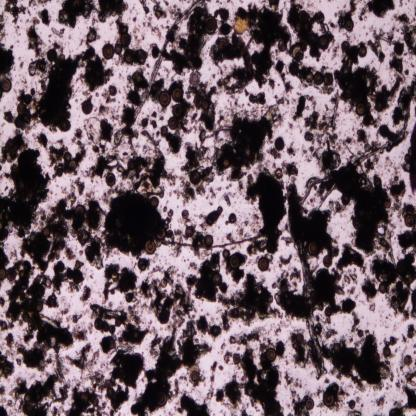Background material: (5, 273, 71, 368), (330, 166, 395, 252), (212, 102, 282, 179), (106, 187, 170, 259), (0, 151, 50, 241), (320, 334, 393, 392), (234, 5, 292, 68), (137, 329, 181, 412), (245, 170, 288, 254), (288, 180, 337, 253), (138, 268, 196, 328), (164, 7, 214, 74), (220, 274, 283, 322), (38, 53, 74, 132), (336, 43, 378, 110), (242, 349, 285, 414), (117, 148, 179, 189), (72, 202, 108, 270), (287, 0, 324, 58), (10, 374, 59, 416), (46, 196, 75, 262), (68, 345, 106, 389), (314, 266, 342, 324), (275, 274, 307, 323), (192, 249, 221, 303), (75, 47, 113, 88), (369, 254, 416, 286), (104, 264, 139, 306), (208, 37, 255, 67), (62, 384, 106, 416), (108, 349, 144, 387), (371, 74, 404, 113), (182, 325, 211, 369), (89, 302, 127, 335), (305, 112, 339, 148), (392, 75, 416, 126), (218, 67, 266, 91), (392, 12, 416, 58), (21, 234, 50, 272), (386, 282, 412, 322), (58, 1, 96, 28), (340, 240, 369, 274), (48, 135, 70, 179), (180, 142, 208, 175), (201, 82, 218, 136), (27, 16, 47, 59), (404, 123, 416, 194), (228, 326, 267, 347), (290, 95, 318, 124), (387, 386, 416, 414), (83, 116, 114, 142), (311, 146, 341, 172), (367, 29, 393, 59), (223, 377, 244, 414), (86, 155, 118, 179), (0, 134, 26, 163), (51, 264, 75, 295), (96, 0, 128, 23), (122, 323, 151, 347), (178, 393, 208, 415), (330, 380, 350, 413), (337, 1, 358, 32), (107, 386, 130, 414), (174, 177, 197, 205), (361, 0, 396, 18), (198, 162, 215, 199), (286, 390, 310, 416), (198, 313, 222, 338), (55, 364, 70, 404), (0, 42, 16, 79), (181, 100, 198, 134), (161, 129, 183, 154), (4, 0, 27, 23), (354, 128, 376, 152), (72, 127, 86, 162), (131, 17, 146, 48), (0, 350, 15, 380), (127, 70, 149, 90), (14, 113, 38, 131), (362, 275, 378, 301), (217, 6, 232, 33), (244, 211, 261, 233), (391, 182, 406, 206), (247, 90, 267, 107), (205, 205, 222, 225), (141, 130, 161, 147), (340, 298, 358, 316), (208, 362, 217, 398), (285, 370, 302, 389), (340, 139, 354, 162), (28, 61, 49, 76), (147, 21, 162, 42), (100, 336, 117, 354), (151, 0, 167, 19), (127, 86, 142, 106), (388, 56, 404, 74), (32, 131, 48, 149), (0, 243, 11, 269), (69, 178, 84, 197), (16, 88, 36, 102), (351, 312, 362, 337), (85, 29, 101, 46), (101, 88, 117, 104), (284, 162, 300, 178), (0, 12, 8, 43), (38, 9, 51, 28), (72, 327, 87, 343), (0, 396, 13, 414), (44, 292, 57, 310), (123, 105, 134, 126), (364, 115, 381, 128), (221, 312, 232, 332), (374, 393, 386, 411), (80, 285, 92, 303), (286, 141, 299, 157), (5, 332, 16, 350), (3, 110, 16, 125), (410, 289, 416, 321), (404, 371, 416, 387), (91, 142, 107, 154), (392, 41, 404, 56), (50, 26, 65, 38), (342, 272, 357, 284), (140, 0, 150, 18), (66, 245, 76, 262), (280, 253, 292, 267), (137, 258, 149, 272), (69, 311, 83, 323), (169, 6, 181, 20), (267, 76, 277, 92), (149, 45, 161, 58), (407, 323, 416, 340), (28, 0, 53, 6), (290, 267, 302, 279), (215, 388, 225, 402), (0, 321, 15, 330), (223, 193, 232, 208), (223, 352, 233, 365), (14, 24, 22, 38), (84, 90, 93, 102), (228, 212, 236, 224), (400, 332, 408, 344), (238, 408, 249, 416), (0, 382, 6, 396), (0, 295, 6, 308), (220, 341, 227, 352), (150, 119, 158, 128), (151, 110, 158, 119), (218, 364, 224, 374), (370, 302, 376, 312), (350, 411, 362, 415)
Cellulose filter fibre: (114, 0, 203, 142), (300, 118, 410, 206), (296, 240, 326, 376)
Diatom: (154, 390, 169, 408), (158, 90, 172, 108), (205, 16, 217, 34), (322, 391, 335, 407), (228, 254, 241, 270), (124, 48, 136, 64), (172, 87, 184, 103), (273, 135, 285, 151), (308, 241, 320, 257), (102, 43, 114, 59), (189, 70, 201, 86), (293, 45, 304, 62), (72, 268, 83, 285), (74, 204, 86, 219), (189, 170, 200, 186), (258, 257, 270, 271), (167, 115, 178, 130), (404, 213, 415, 228), (203, 233, 214, 248), (145, 240, 156, 255), (323, 73, 334, 88), (318, 35, 329, 50), (217, 38, 228, 53), (5, 268, 17, 281), (378, 123, 389, 137), (82, 101, 93, 115), (1, 78, 12, 92), (121, 33, 132, 47), (105, 173, 116, 187), (136, 49, 146, 64), (378, 280, 388, 295), (172, 104, 183, 117), (149, 195, 160, 208), (314, 71, 324, 85), (323, 253, 333, 267), (356, 102, 366, 116), (190, 371, 200, 385), (16, 102, 27, 114), (212, 273, 222, 286), (345, 17, 354, 31), (129, 402, 138, 416), (93, 318, 102, 332), (306, 70, 315, 84), (60, 119, 70, 131), (185, 226, 195, 238), (47, 49, 57, 61), (266, 349, 276, 361), (106, 389, 116, 401), (194, 95, 203, 108), (34, 301, 44, 312), (382, 347, 392, 358), (80, 392, 90, 403), (403, 354, 413, 365), (114, 43, 123, 55), (296, 332, 305, 344), (358, 46, 367, 58), (63, 151, 72, 163), (232, 353, 241, 365), (306, 399, 315, 410), (140, 117, 149, 128), (157, 228, 165, 240), (42, 228, 51, 238), (222, 249, 230, 260), (0, 268, 6, 282), (69, 160, 77, 170), (348, 400, 356, 409), (181, 210, 188, 218), (160, 279, 166, 288)
Natural material: (158, 232, 262, 250)
